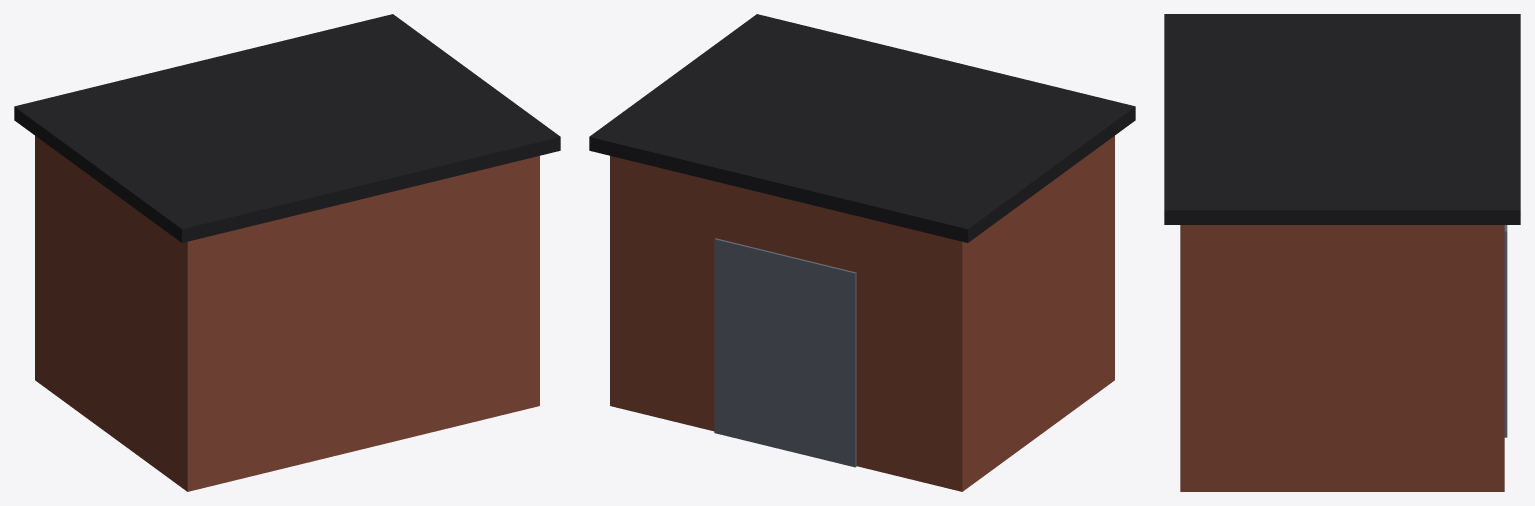
File: water.plant.pump_station.glb
3 views of the same model, side by side, from view 1: azimuth 30°, elevation 25°; view 2: azimuth 150°, elevation 25°; view 3: azimuth 270°, elevation 25° (orthographic). The views are drawn at different scales.
Visible parts, largest first — view 1: main__brick, main__roof_felt; view 2: main__brick, main__roof_felt, main__steel_painted; view 3: main__brick, main__roof_felt, main__steel_painted.
Part boxes in pixels (<box>): main__brick: <box>35,136,539,491</box>; main__roof_felt: <box>14,14,560,242</box>; main__brick: <box>610,136,1114,491</box>; main__roof_felt: <box>589,14,1135,242</box>; main__steel_painted: <box>714,238,856,467</box>; main__brick: <box>1180,225,1504,491</box>; main__roof_felt: <box>1164,14,1520,224</box>; main__steel_painted: <box>1504,225,1507,437</box>.
Bounding box in the file's own units: 4.3 × 2.95 × 3.3.
